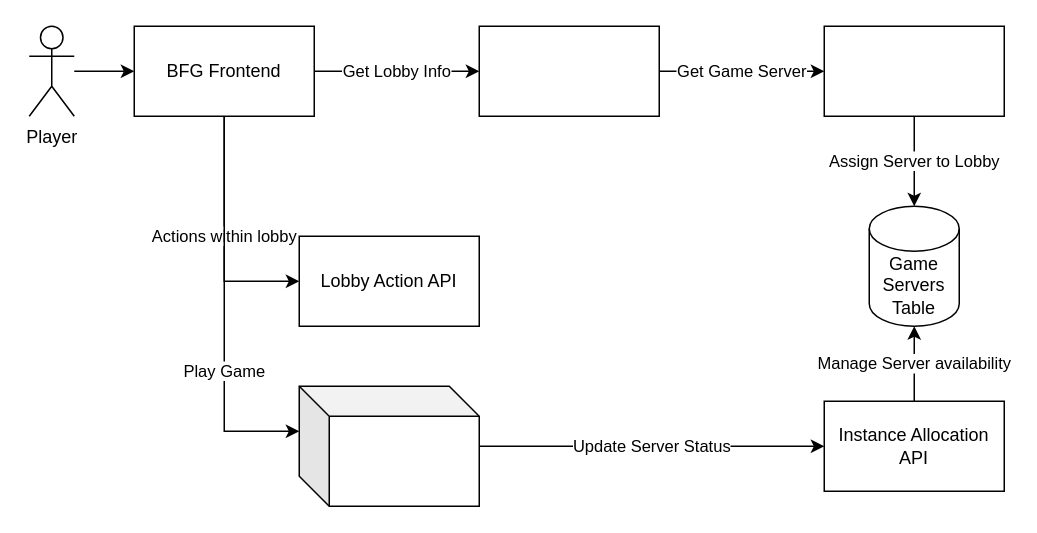
Some shapes in this 1037 by 533 pixel diagram are drawn without their labels. The centre of each missing label's shape, as x and y in pixels:
Game Servers (EC2): (x=388, y=445)
Instance Management API: (x=913, y=70)
Lobby Management API: (x=568, y=70)
